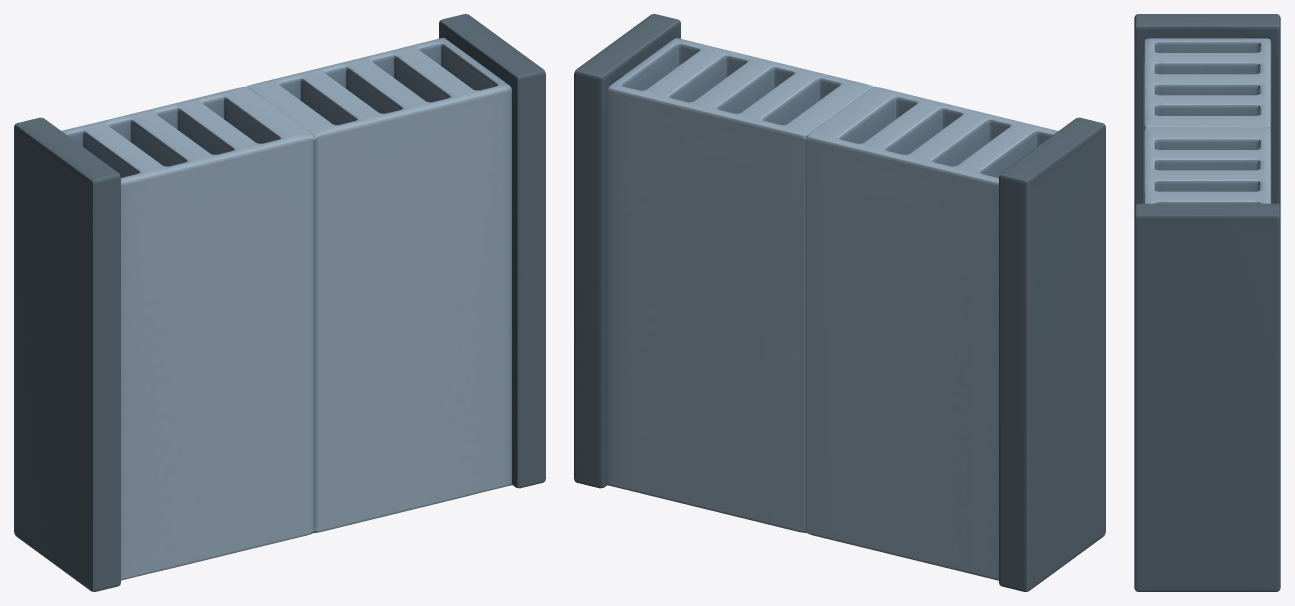
File: Door_Block_2.fbx
The picture shows the model from 3 angles, left to right: view 1: azimuth 30°, elevation 25°; view 2: azimuth 150°, elevation 25°; view 3: azimuth 270°, elevation 25°; orthographic projection. The views are drawn at different scales.
Visible parts, largest first — view 1: Door_Block_2; view 2: Door_Block_2; view 3: Door_Block_2.
Boxes of the visible parts, <box> form: Door_Block_2: <box>14,14,545,591</box>; Door_Block_2: <box>574,14,1105,591</box>; Door_Block_2: <box>1134,14,1280,591</box>.
Bounding box in the file's own units: 2 × 1.74 × 0.6098.
1 material, 1 textured.
